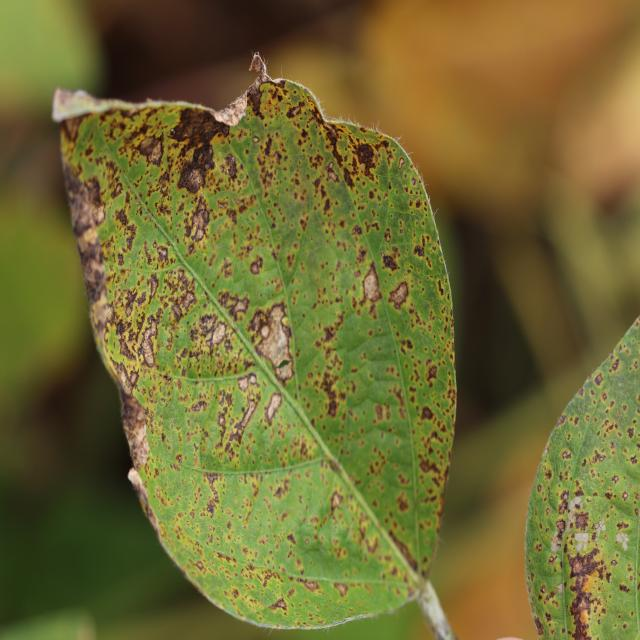Bacterial_Blight: (246, 297, 301, 401), (167, 108, 233, 193), (563, 539, 609, 639), (118, 388, 150, 475), (189, 306, 230, 361), (114, 313, 145, 366), (387, 526, 417, 567), (584, 434, 617, 469), (318, 370, 342, 414), (352, 140, 377, 177), (137, 134, 164, 166), (80, 174, 104, 209), (83, 254, 105, 291), (361, 266, 382, 303), (388, 279, 410, 309), (246, 82, 266, 112), (204, 471, 223, 502), (551, 515, 568, 549), (91, 297, 109, 329), (122, 288, 140, 317), (248, 50, 268, 76), (64, 116, 82, 141), (122, 223, 137, 251), (329, 489, 344, 514), (82, 225, 99, 247), (574, 530, 590, 553), (297, 577, 320, 592), (381, 253, 399, 272), (269, 596, 288, 613), (395, 491, 410, 512), (214, 551, 236, 565), (574, 511, 590, 530), (322, 324, 337, 343), (148, 274, 159, 299), (326, 162, 339, 183), (419, 405, 435, 422), (155, 244, 169, 263), (616, 532, 630, 551), (249, 257, 263, 275), (425, 363, 438, 382), (603, 420, 619, 435), (286, 104, 301, 119), (334, 582, 348, 597), (534, 616, 544, 635), (596, 520, 607, 536), (413, 244, 425, 258), (286, 532, 297, 545), (560, 490, 569, 505), (616, 521, 629, 531), (594, 373, 604, 386), (626, 426, 635, 439), (218, 412, 226, 426), (562, 449, 572, 460), (196, 560, 205, 572), (605, 490, 614, 501), (398, 157, 405, 170), (544, 469, 552, 480), (557, 583, 564, 595), (535, 543, 542, 552), (622, 492, 629, 500), (540, 585, 546, 594), (252, 136, 259, 143), (537, 484, 542, 493)
Soybean: (53, 56, 456, 640)
